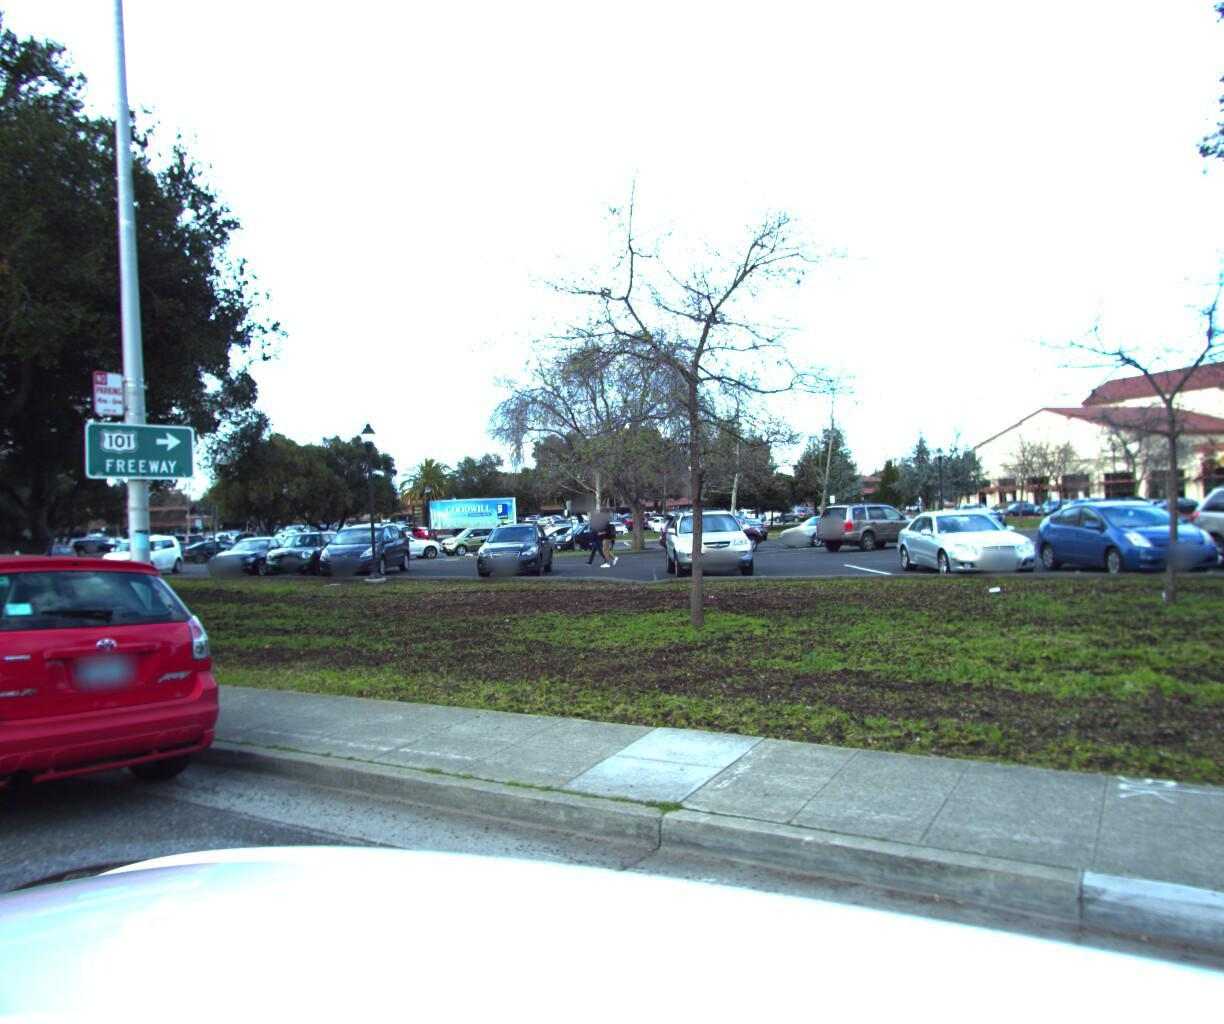car: (0, 534, 271, 886)
